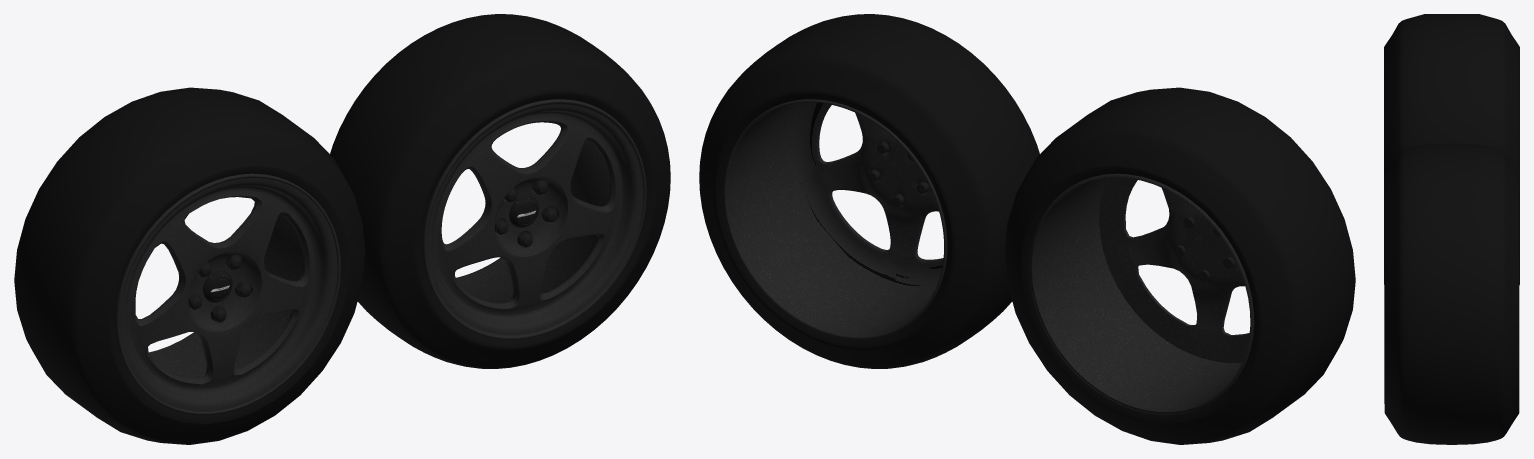
3 views of the same model, side by side, from view 1: azimuth 30°, elevation 25°; view 2: azimuth 150°, elevation 25°; view 3: azimuth 270°, elevation 25° (orthographic). The views are drawn at different scales.
Parts seen in each view (by area): view 1: HighPolyTire, HighPolyTire.001, LowPolySpoon, HighPolySpoon; view 2: HighPolyTire, HighPolyTire.001, LowPolySpoon, HighPolySpoon; view 3: HighPolyTire.001, HighPolyTire, HighPolySpoon.
Boxes of the visible parts, x1,y1,x2,y2 form: HighPolyTire: (14,87,365,444); HighPolyTire.001: (330,14,670,368); LowPolySpoon: (115,173,340,415); HighPolySpoon: (422,99,646,339); HighPolyTire: (1004,87,1355,444); HighPolyTire.001: (699,14,1039,368); LowPolySpoon: (1029,173,1254,414); HighPolySpoon: (723,99,947,339); HighPolyTire.001: (1384,143,1519,444); HighPolyTire: (1384,14,1519,285); HighPolySpoon: (1384,185,1384,403).
Size of what is drawn, in the model's own units: 697 by 349 by 156.
2 materials, 1 textured.
